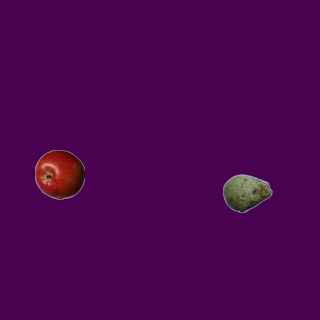Apple Braeburn: (34, 149, 84, 199)
Pear Stone: (222, 168, 272, 218)
